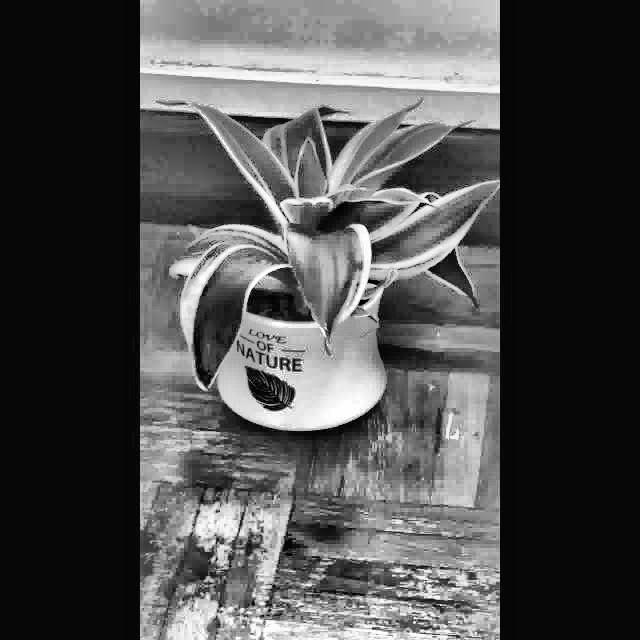plants: (152, 94, 499, 441)
